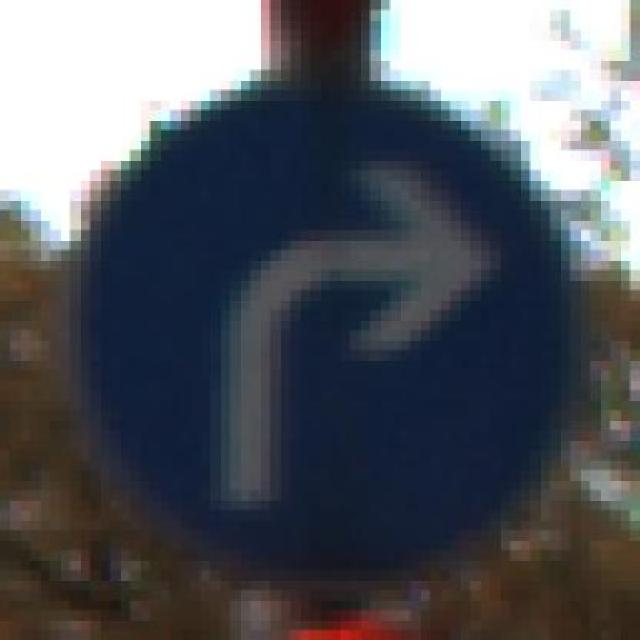Turn right ahead: (49, 70, 600, 570)
